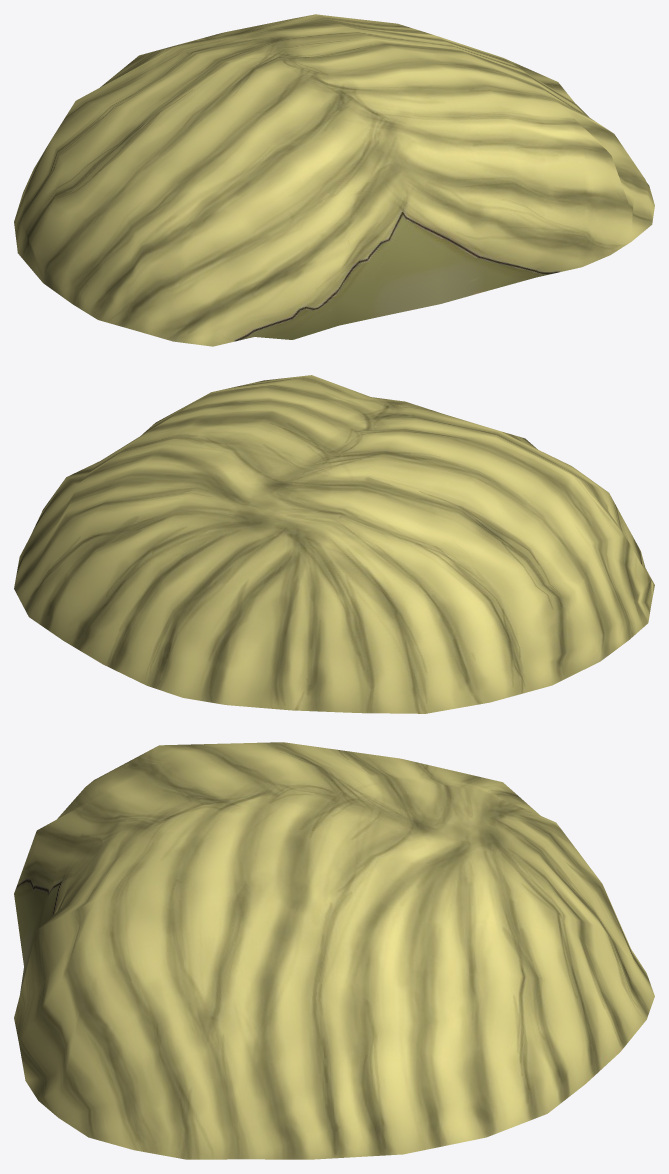
File: Zombie_1_Cup_Of_Head.FBX
3 views of the same model, one above another, from view 1: azimuth 30°, elevation 25°; view 2: azimuth 150°, elevation 25°; view 3: azimuth 270°, elevation 25° (orthographic). The views are drawn at different scales.
Parts seen in each view (by area): view 1: Cup_of_skull; view 2: Cup_of_skull; view 3: Cup_of_skull.
Boxes of the visible parts, left/top/right/bottom form: Cup_of_skull: left=14, top=14, right=654, bottom=346; Cup_of_skull: left=14, top=375, right=654, bottom=713; Cup_of_skull: left=14, top=742, right=654, bottom=1159.
Size of the model in its own units: 44.41 by 12.67 by 36.83.
Materials: 1 (1 with a texture image).
